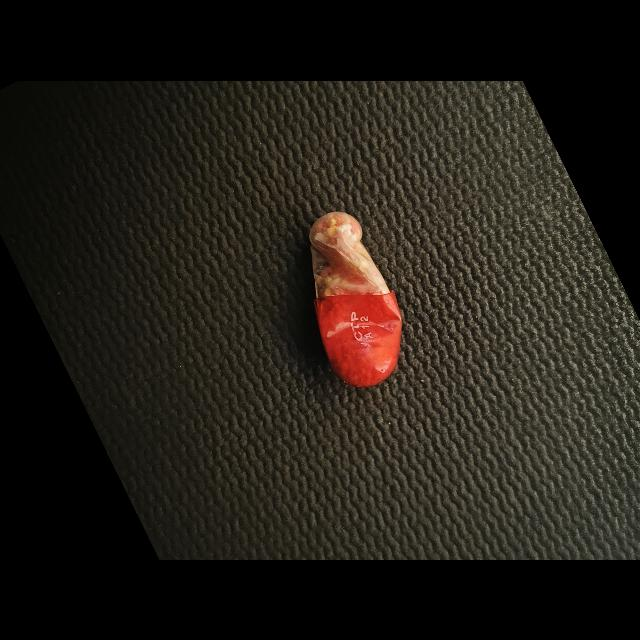Defective Capsule: (309, 211, 402, 386)
